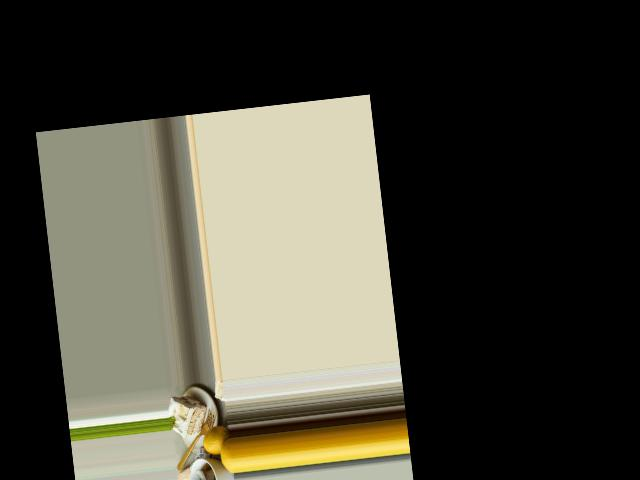lemon: (217, 437, 234, 475)
